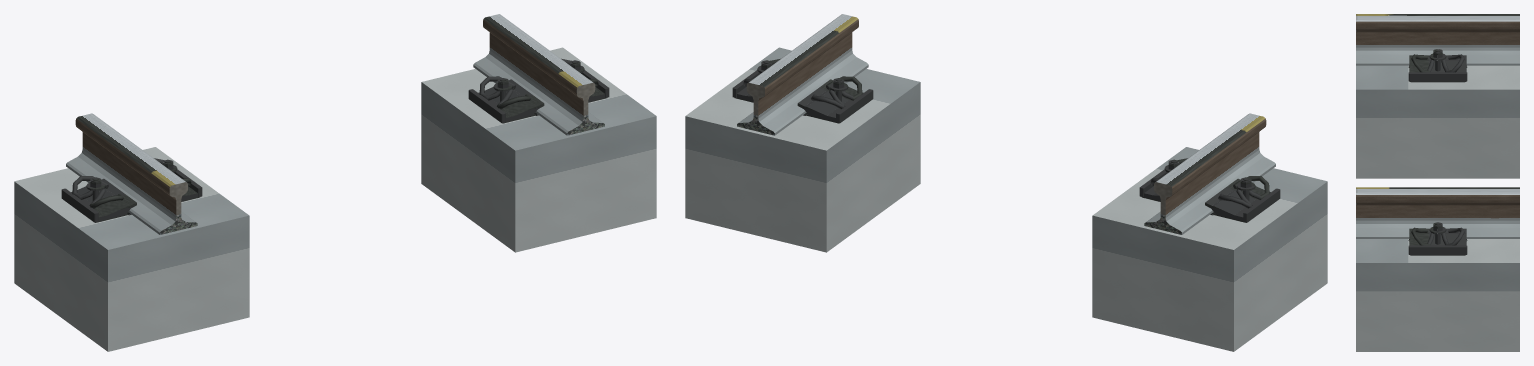
File: direct_high.obj
The picture shows the model from 3 angles, left to right: view 1: azimuth 30°, elevation 25°; view 2: azimuth 150°, elevation 25°; view 3: azimuth 270°, elevation 25°; orthographic projection. The views are drawn at different scales.
Visible parts, largest first — view 1: direct_bearer, rail_left, rail_right, fastener_right, fastener_left, rail_left_end, rail_right_end; view 2: direct_bearer, rail_left, rail_right, fastener_right, fastener_left, rail_left_end, rail_right_end; view 3: direct_bearer, rail_right, rail_left, fastener_left, fastener_right.
Boxes of the visible parts, x1,y1,x2,y2 form: direct_bearer: (14,47,656,351); rail_left: (66,113,195,234); rail_right: (473,14,602,135); fastener_right: (468,58,609,123); fastener_left: (61,158,202,222); rail_left_end: (160,182,197,234); rail_right_end: (567,83,604,135); direct_bearer: (685,47,1327,351); rail_left: (1146,113,1275,234); rail_right: (739,14,868,135); fastener_right: (732,58,873,123); fastener_left: (1139,158,1280,222); rail_left_end: (1144,182,1181,234); rail_right_end: (737,83,774,135); direct_bearer: (1356,65,1519,351); rail_right: (1356,187,1519,238); rail_left: (1356,14,1519,65); fastener_left: (1408,49,1467,82); fastener_right: (1408,222,1467,255).
Bounding box in the file's own units: 2.03 × 0.5324 × 0.6.
